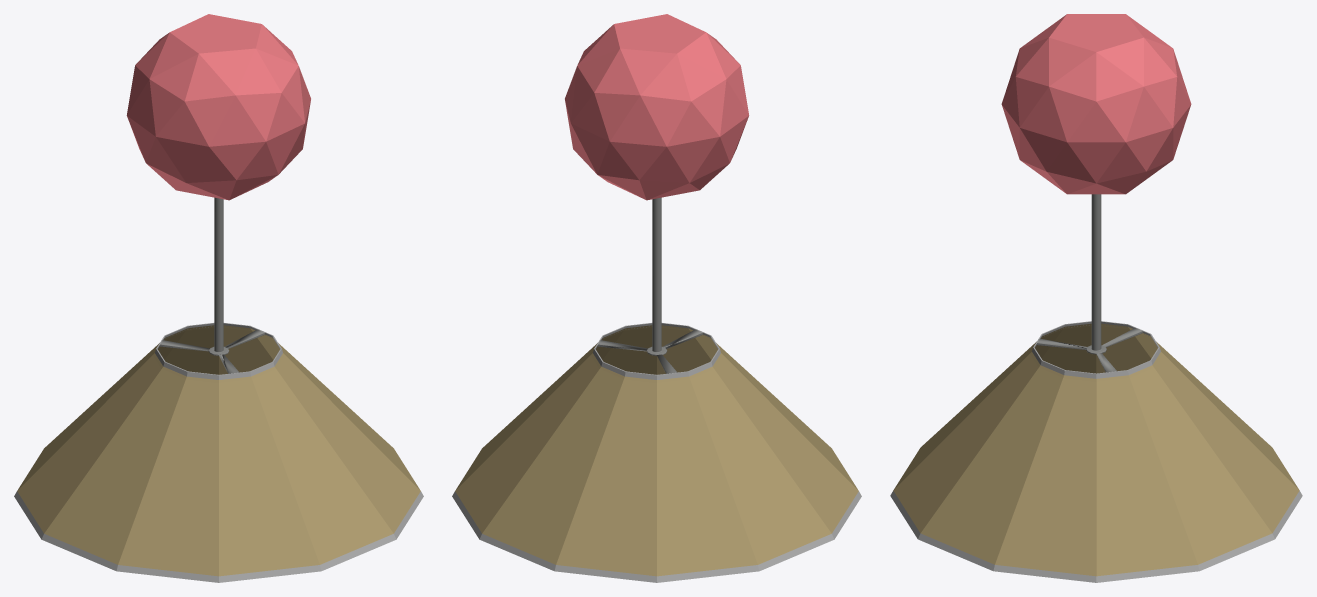
The model's file is lampv3.glb.
The picture shows the model from 3 angles, left to right: view 1: azimuth 30°, elevation 25°; view 2: azimuth 150°, elevation 25°; view 3: azimuth 270°, elevation 25°; orthographic projection.
Visible parts, largest first — view 1: Plane, Icosphere, Cylinder; view 2: Plane, Icosphere, Cylinder; view 3: Plane, Icosphere, Cylinder.
Boxes of the visible parts, x1,y1,x2,y2 form: Plane: (14, 323, 423, 582); Icosphere: (126, 14, 310, 200); Cylinder: (160, 197, 264, 373); Plane: (452, 323, 861, 582); Icosphere: (565, 14, 749, 200); Cylinder: (598, 197, 702, 373); Plane: (890, 321, 1302, 582); Icosphere: (1001, 14, 1191, 194); Cylinder: (1037, 194, 1142, 372).
Size of the model in its own units: 0.8694 by 1.08 by 0.8694.
